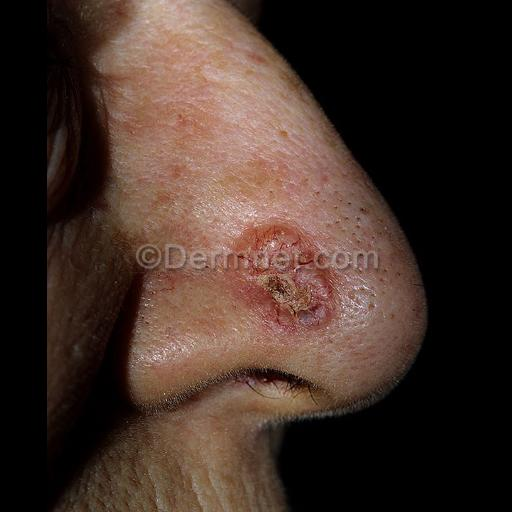Skin_Lesion: (216, 219, 350, 327)
